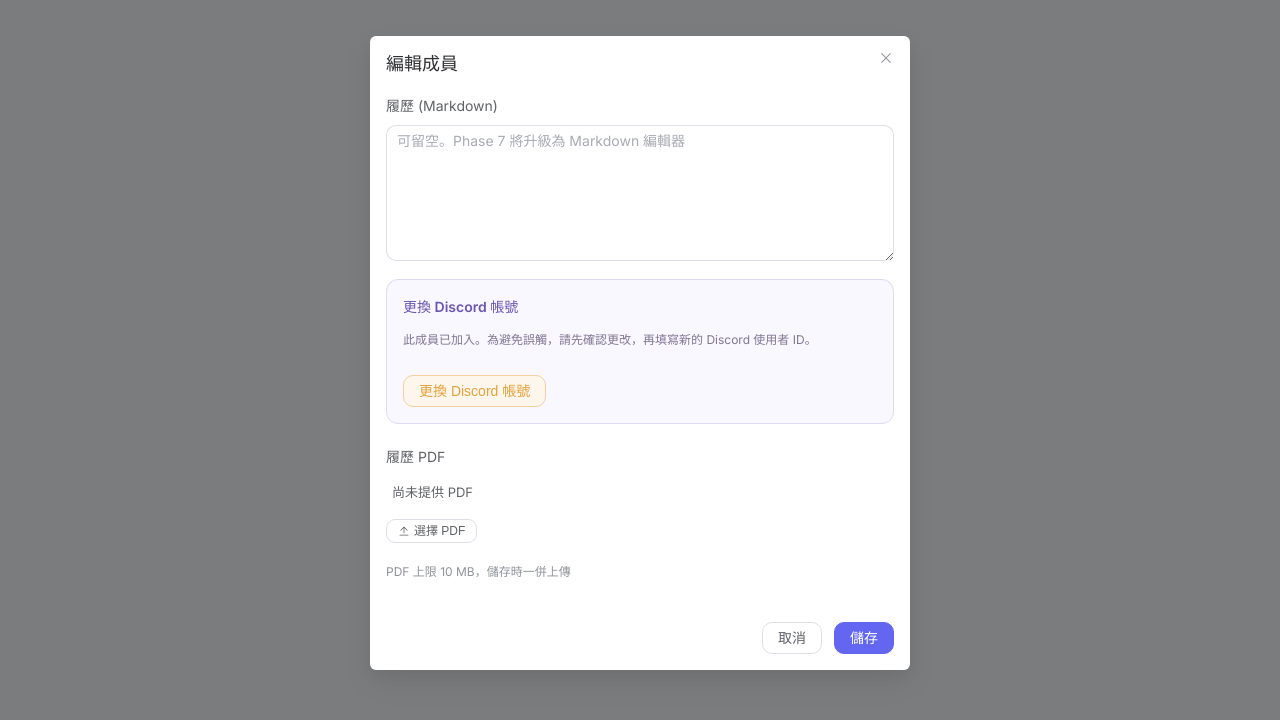
it: confirmed changes for joined members › keeps inputs locked if loading the current identity fails
(page scrolled)
Click the button with test id "confirm-discord-change": (475, 391) 403,375 -> 546,407
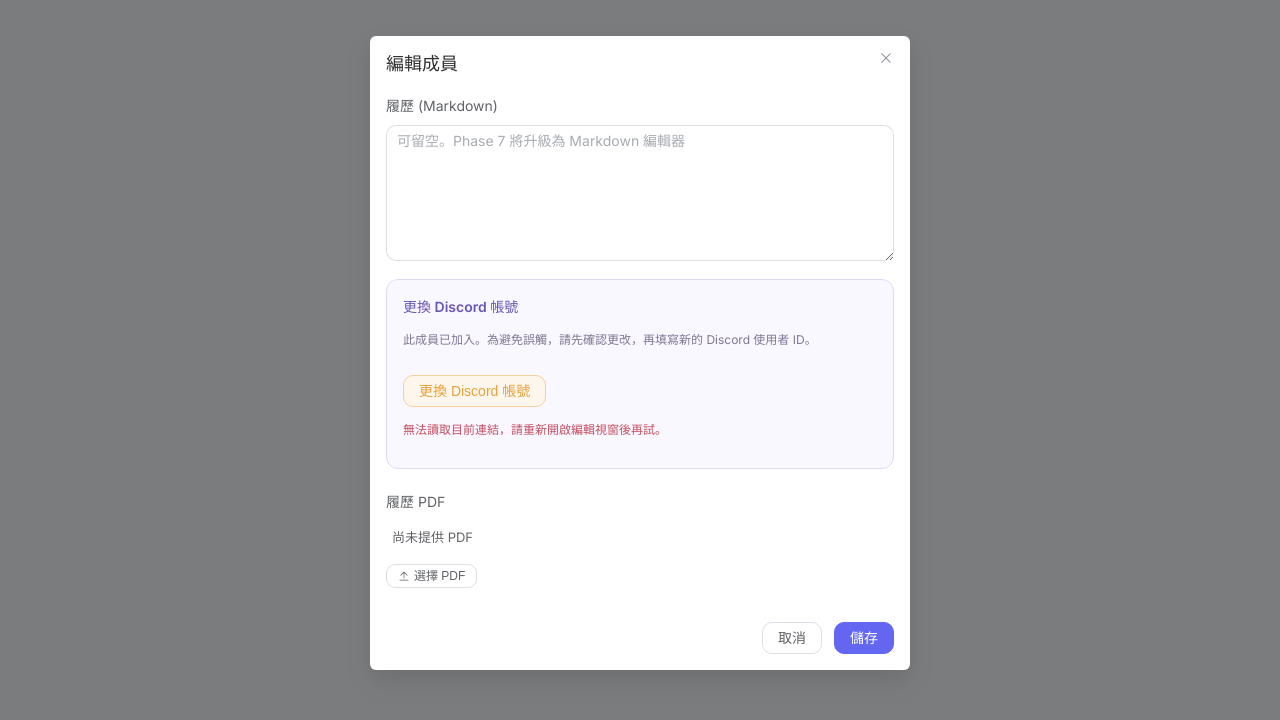
Result: the message with class "discord-link-error" shows "無法讀取" at 403,422 -> 667,437
